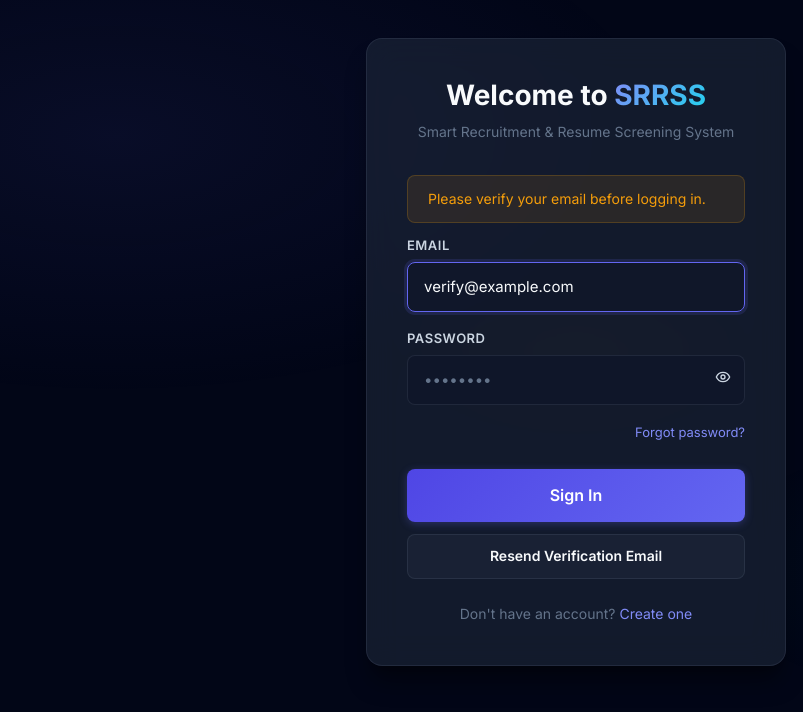
it: Login Page › shows verify-pending UI and resends verification email
This screenshot has width=803, height=712.
Expected: the text "Please verify your email before logging in." is shown, [407,175,745,223]
Click the button "Resend Verification Email": {"x": 576, "y": 556} [407,534,745,579]
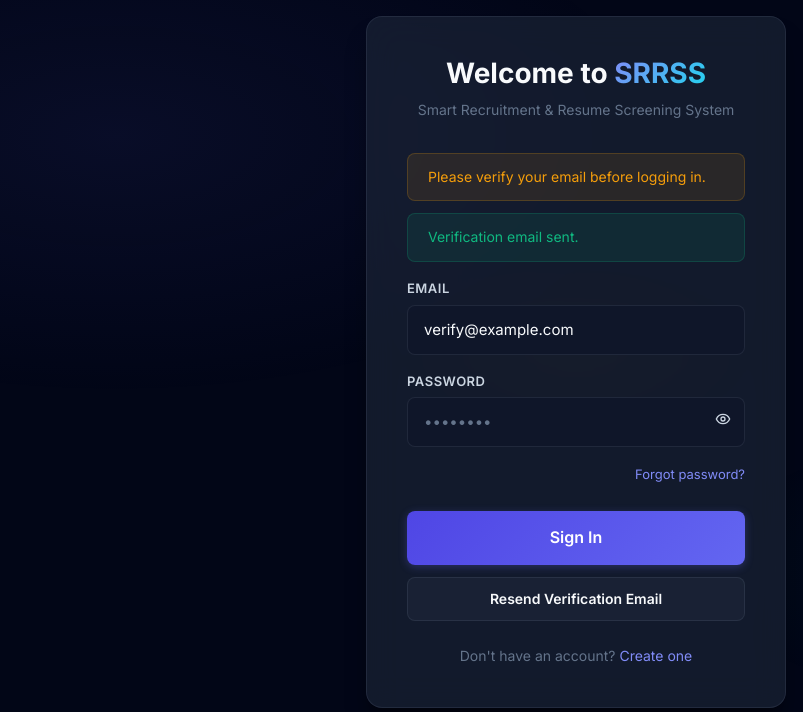
Expected: the text "Verification email sent." is shown, [407,213,745,262]
